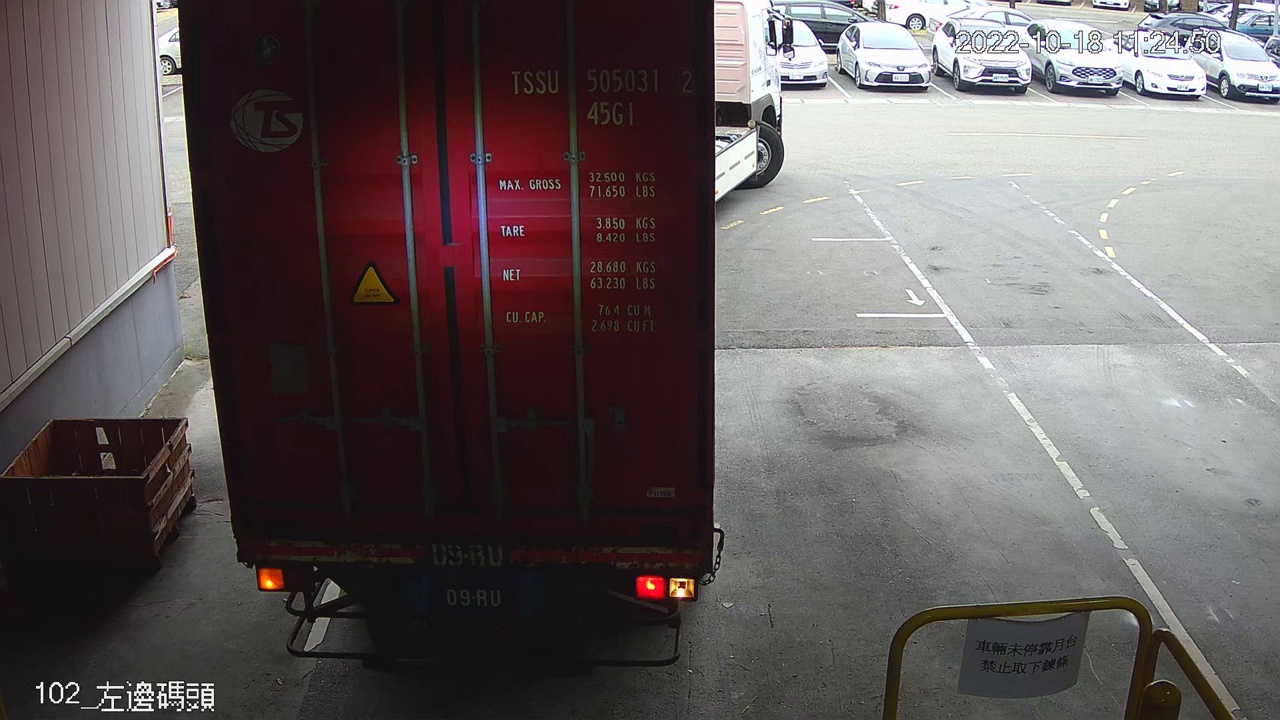container: (499, 61, 703, 129)
